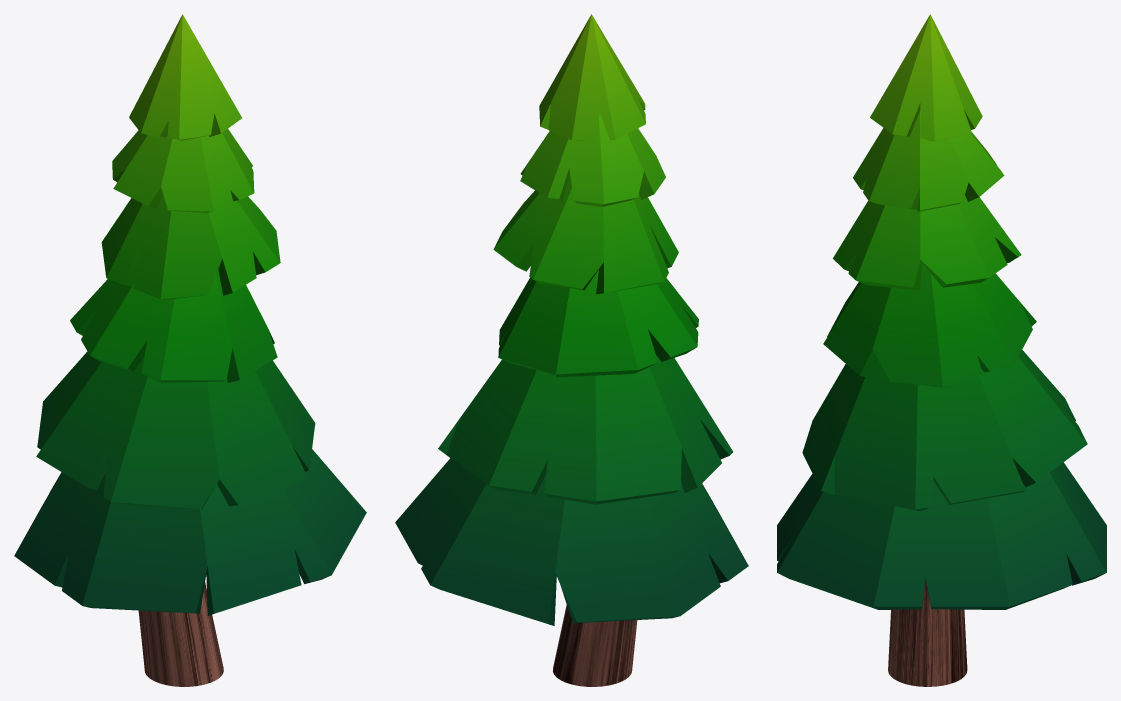
Rendered from tree_evergreen.glb.
3 views of the same model, side by side, from view 1: azimuth 30°, elevation 25°; view 2: azimuth 150°, elevation 25°; view 3: azimuth 270°, elevation 25° (orthographic).
Visible parts, largest first — view 1: Leaves, Trunk; view 2: Leaves, Trunk; view 3: Leaves, Trunk.
Part boxes in pixels (bbox=[...]): Leaves: bbox=[14, 14, 366, 615]; Trunk: bbox=[138, 582, 223, 686]; Leaves: bbox=[395, 14, 748, 625]; Trunk: bbox=[553, 605, 637, 686]; Leaves: bbox=[777, 14, 1106, 609]; Trunk: bbox=[888, 580, 967, 686].
Size of the model in its own units: 2.64 by 5.8 by 2.64.
Materials: 2 (2 with a texture image).
